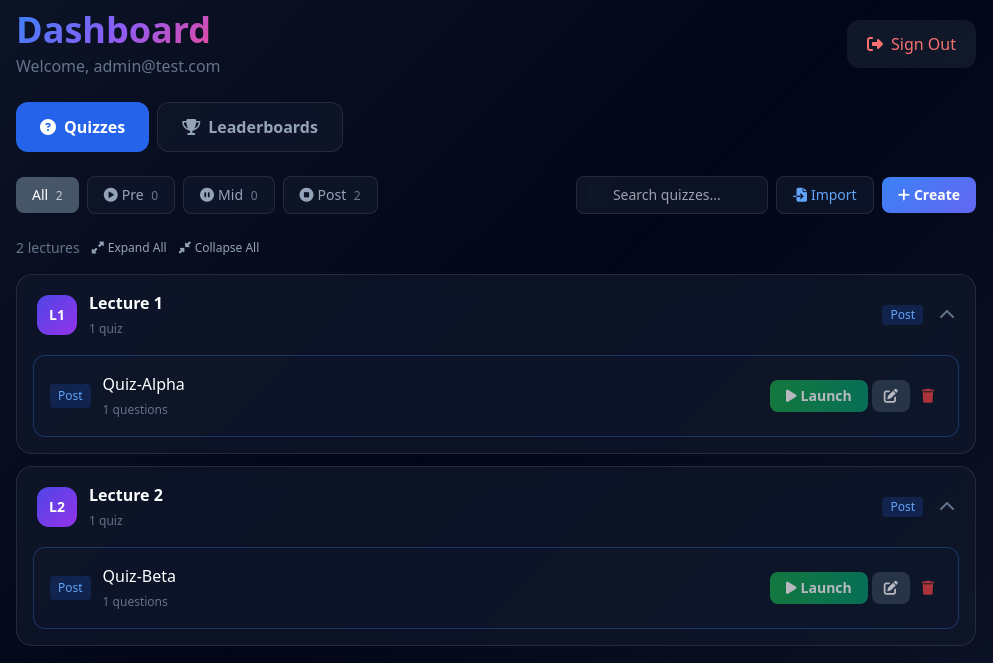
Test: DashboardPage — Collapse All › toggling a single level off does not auto-expand it back
// Collapse only the first level via its header button.
Click the button "L1 Lecture 1 1 quiz Post" at (57,315), box 17,275 -> 975,355
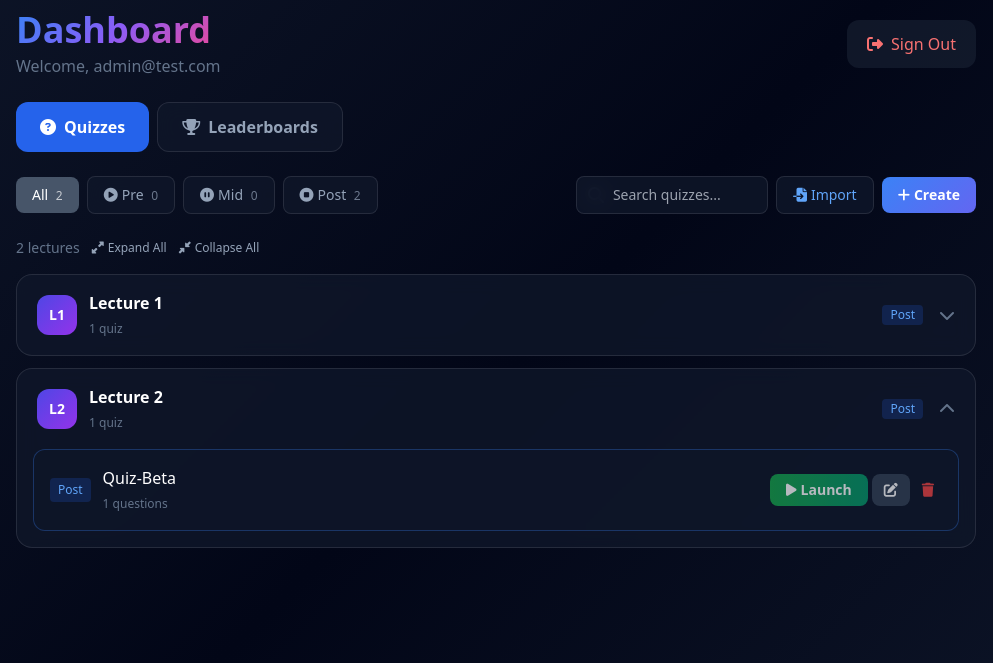
Expected: the text "Quiz-Beta" is shown, 103,466 -> 176,490
Expected: the text "Quiz-Alpha" is gone
